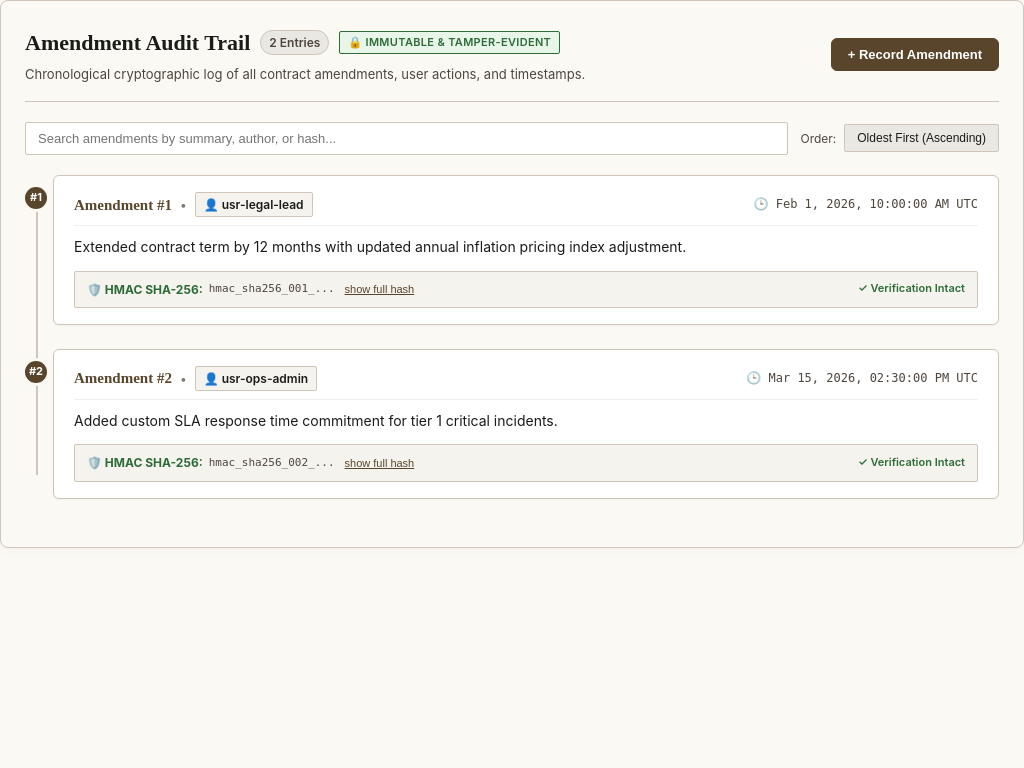
Test case: AmendmentTimeline Component › validates form submission and displays error when summary is empty
The width and height of the screenshot is (1024, 768).
Click the button with test id "amendment-form-toggle" at (915, 55), box [831, 38, 999, 72]
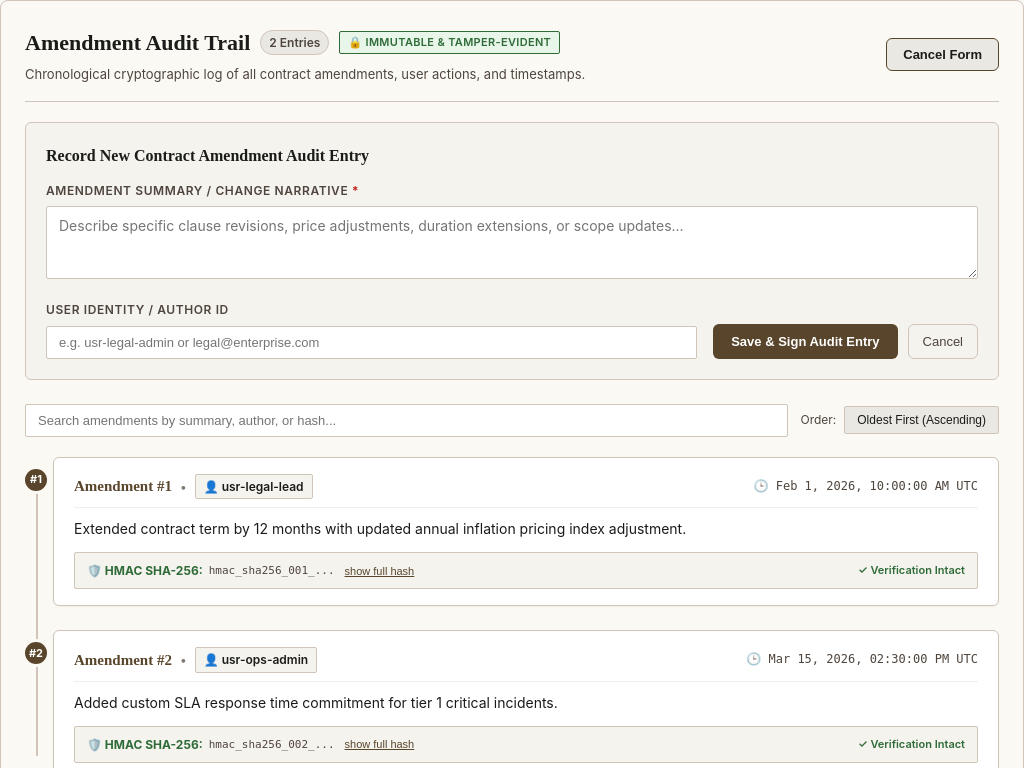
Click the button with test id "amendment-submit-button" at (805, 341), box [713, 324, 898, 358]
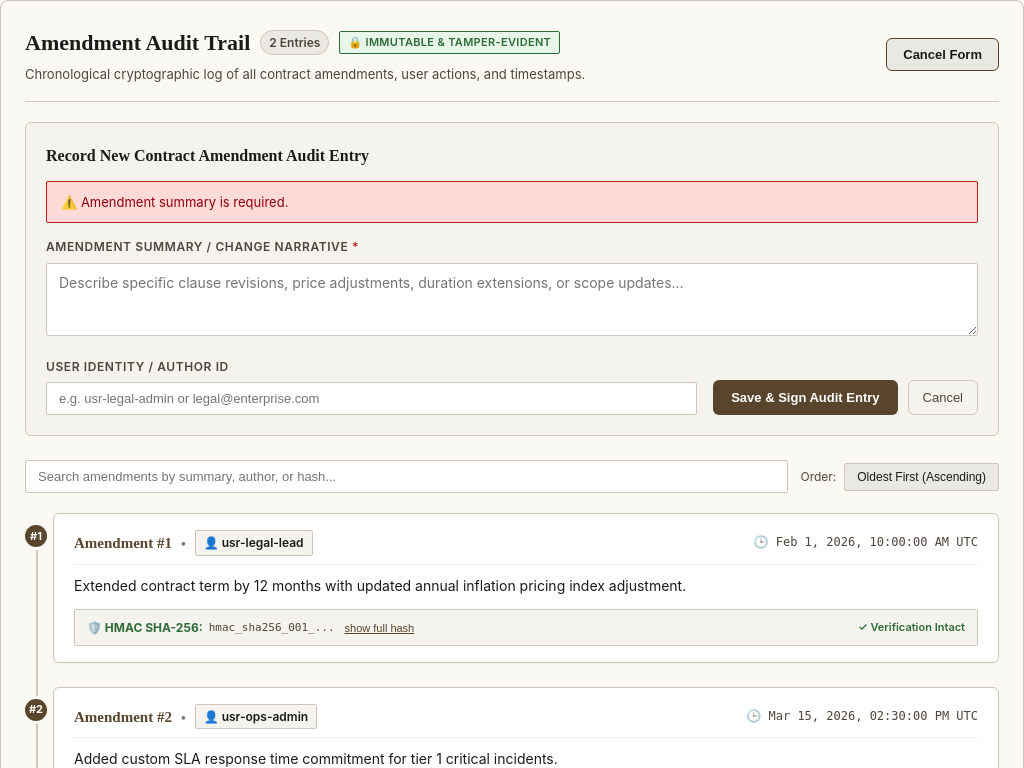
Check: the text with test id "amendment-form-error" shows "Amendment summary is required.", box [81, 194, 288, 210]
